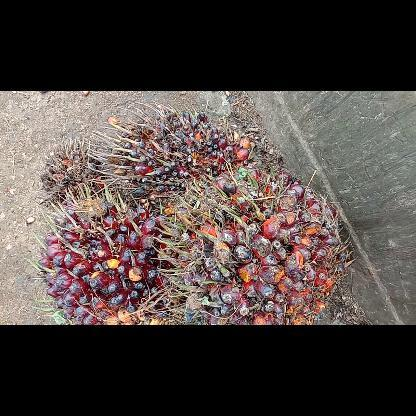TBS abnormal: (84, 100, 256, 216), (36, 132, 114, 208)
TBS masak: (150, 162, 360, 324), (26, 180, 182, 324)
